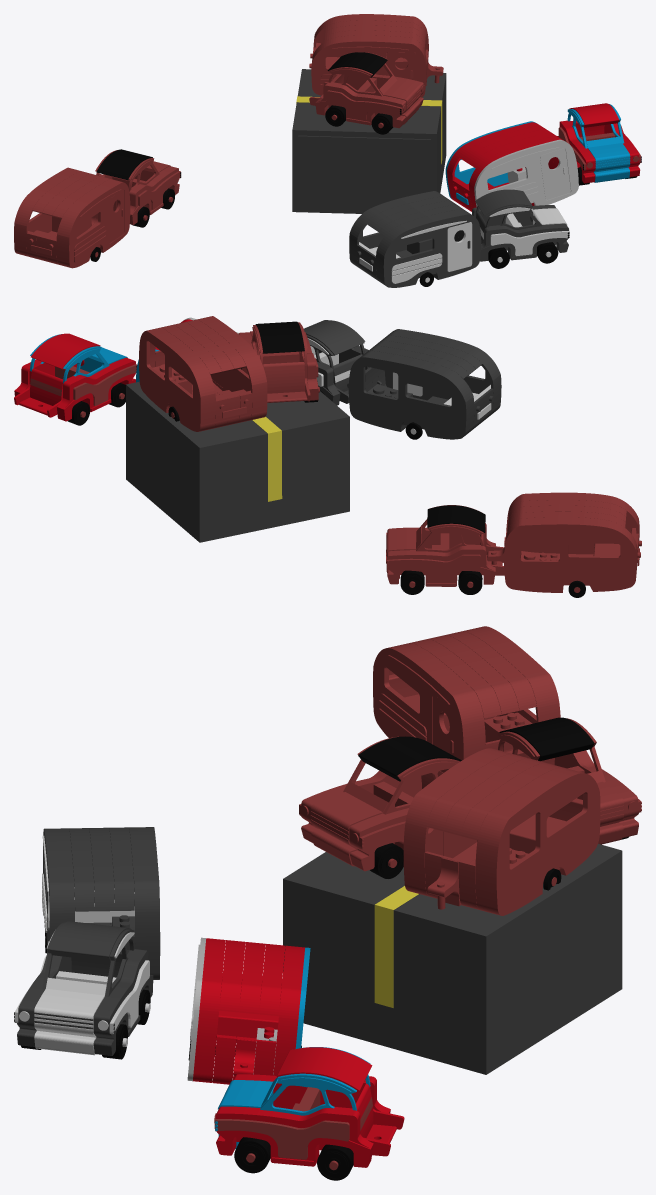
The model's file is uploads_files_3078989_Toy_001.FBX.
3 renders of one model, top to bottom at view 1: azimuth 30°, elevation 25°; view 2: azimuth 150°, elevation 25°; view 3: azimuth 270°, elevation 25°, orthographic. The views are drawn at different scales.
Visible parts, largest first — view 1: Box, Caravan_2, Caravan_1, Caravan_3, Car_4, Caravan_4, Car_2, Car_3, Car_1; view 2: Box, Caravan_2, Caravan_1, Car_4, Car_1, Car_3, Caravan_4, Car_2; view 3: Box, Car_4, Caravan_1, Car_3, Caravan_3, Car_2, Caravan_2, Caravan_4, Car_1.
Boxes of the visible parts, x1,y1,x2,y2 form: Box: (292, 69, 446, 213); Caravan_2: (349, 191, 481, 287); Caravan_1: (14, 167, 130, 268); Caravan_3: (445, 121, 580, 211); Car_4: (309, 14, 443, 97); Caravan_4: (309, 52, 424, 134); Car_2: (472, 189, 569, 268); Car_3: (557, 103, 641, 185); Car_1: (95, 149, 181, 227); Box: (126, 381, 349, 542); Caravan_2: (347, 329, 501, 439); Caravan_1: (487, 492, 641, 597); Car_4: (139, 316, 267, 431); Car_1: (386, 505, 504, 594); Car_3: (14, 333, 137, 425); Caravan_4: (238, 321, 319, 402); Car_2: (304, 320, 381, 405); Box: (283, 843, 622, 1074); Car_4: (403, 748, 600, 915); Caravan_1: (373, 626, 560, 772); Car_3: (214, 1047, 404, 1180); Caravan_3: (187, 937, 310, 1084); Car_2: (14, 921, 153, 1059); Caravan_2: (42, 827, 160, 979); Caravan_4: (299, 736, 461, 878); Car_1: (497, 717, 641, 844).
Bounding box in the file's own units: 1449 × 345 × 821.
